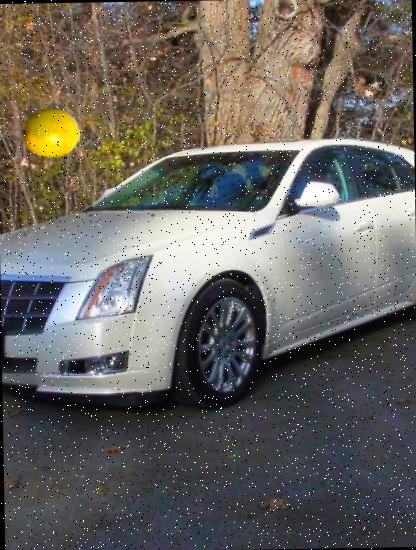Maracuja: (22, 101, 81, 160)
